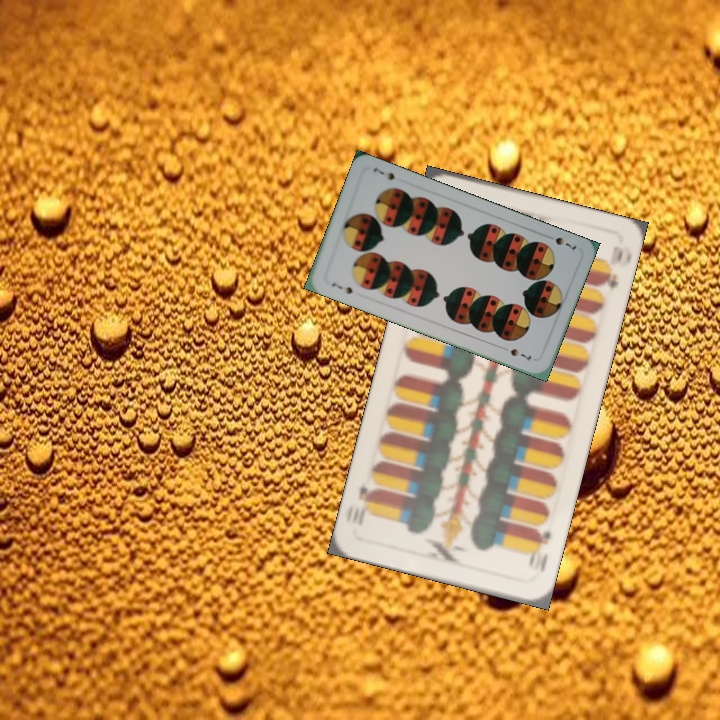E10: (524, 525, 554, 574)
S7: (551, 233, 579, 253), (327, 278, 355, 297)
